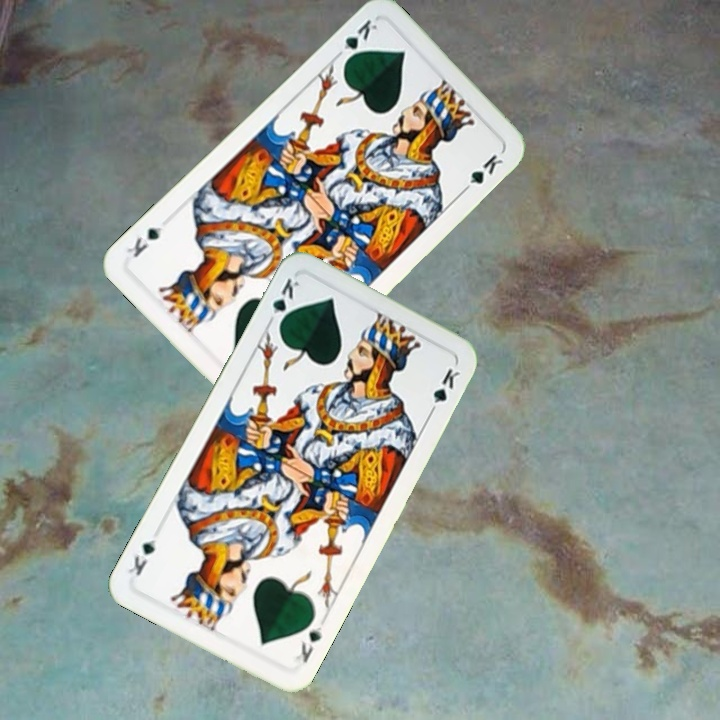GK: (331, 15, 380, 66), (264, 273, 303, 331), (291, 622, 325, 666)
